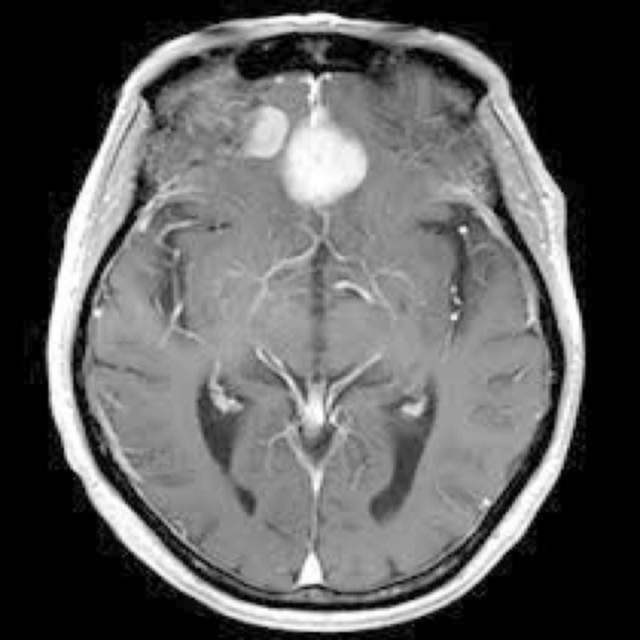meningioma tumor: (238, 90, 390, 226)
